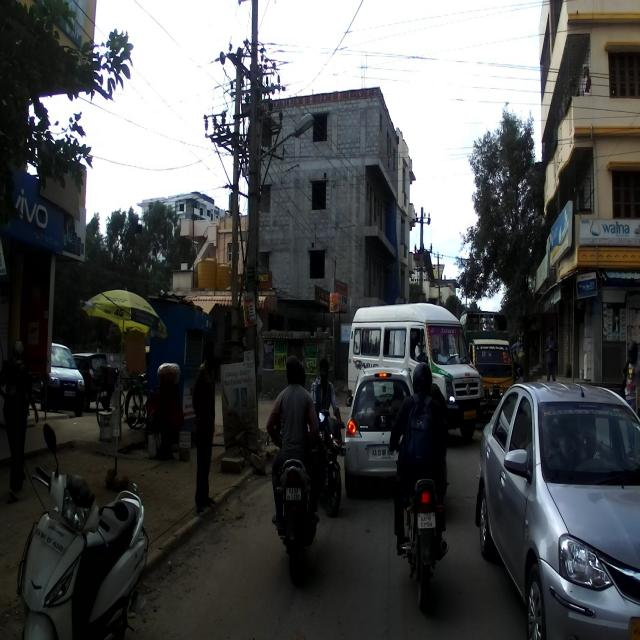car: (474, 375, 639, 637), (23, 340, 84, 420)
mini-bus: (348, 304, 480, 444)
motorcycle: (385, 419, 449, 614), (312, 401, 347, 518)
scooter: (10, 422, 149, 635)
